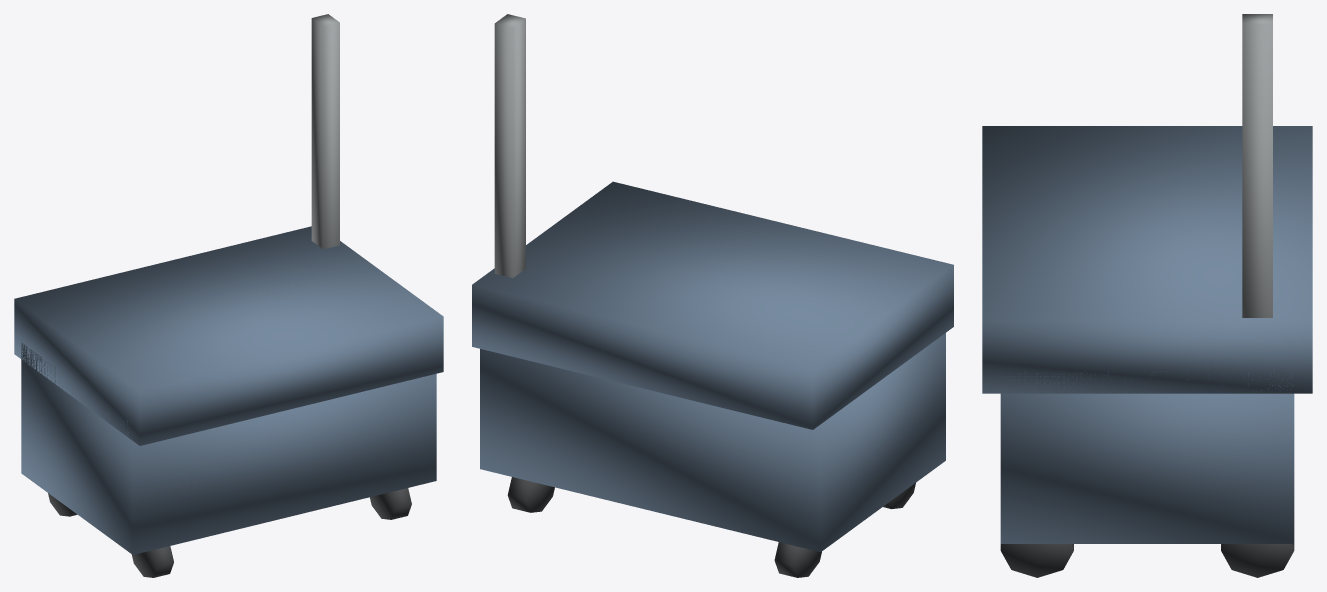
Rendered from housekeeping_cart__deep.glb.
3 views of the same model, side by side, from view 1: azimuth 30°, elevation 25°; view 2: azimuth 150°, elevation 25°; view 3: azimuth 270°, elevation 25° (orthographic). The views are drawn at different scales.
Parts seen in each view (by area): view 1: world; view 2: world; view 3: world.
Boxes of the visible parts, left/top/right/bottom form: world: left=14, top=14, right=443, bottom=577; world: left=472, top=14, right=953, bottom=577; world: left=982, top=14, right=1312, bottom=577.
Bounding box in the file's own units: 0.92 × 1.25 × 0.6588.
